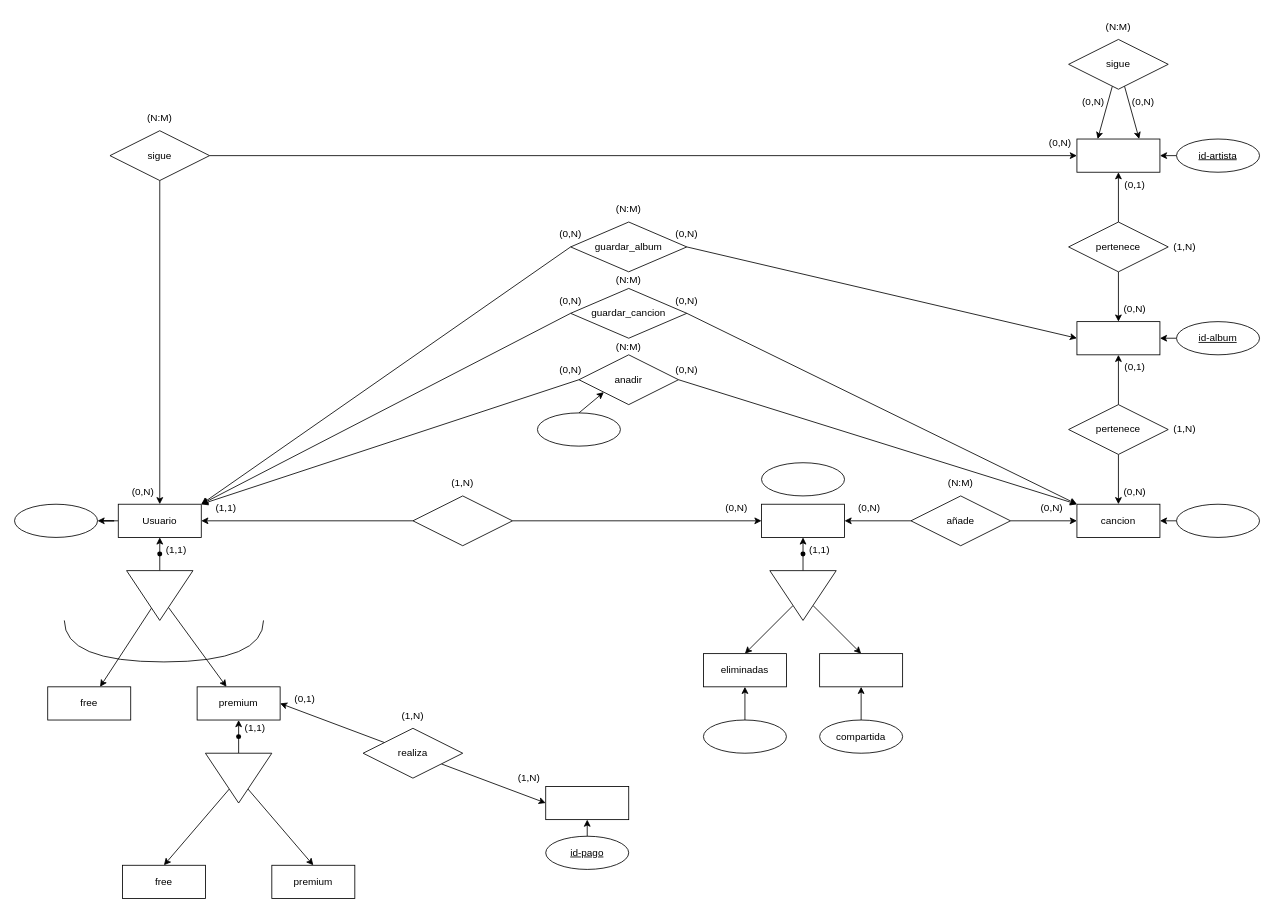
Some shapes in this 1274 by 913 pixel diagram are drawn without their labels. Each missing label, with the centre of its shape:
activa: [861,670]
album: [1118,338]
artista: [1118,155]
crea: [462,520]
fecha: [578,429]
fecha_eliminado: [744,736]
id-cancion: [1218,520]
id-playlist: [803,479]
id-usuario: [56,520]
pago: [587,803]
playlist: [803,520]
